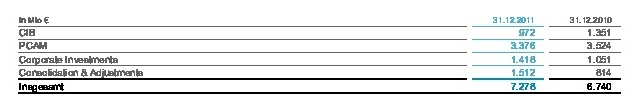table: (0, 0, 640, 112)
